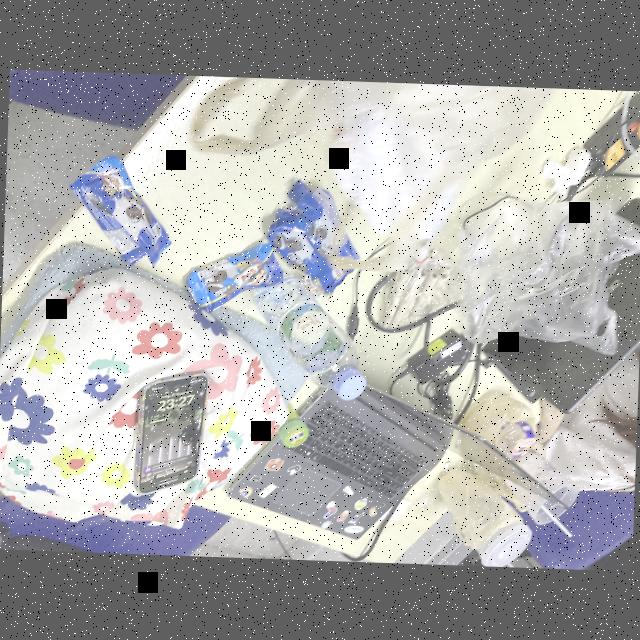plastic_bag: (173, 75, 561, 280), (452, 194, 640, 350), (325, 103, 463, 250), (432, 464, 524, 550), (460, 396, 546, 466)
plastic_bottle: (243, 274, 369, 401)
plastic_bottle_cap: (328, 367, 369, 403)
plastic_box: (499, 418, 538, 458)
plastic_cup: (500, 456, 580, 534)
plastic_cup_lid: (474, 524, 536, 567)
scrap_paper: (536, 142, 590, 203), (380, 497, 410, 524)
scrap_plastic: (402, 480, 436, 521)
snack_bag: (70, 154, 174, 268), (266, 183, 366, 294), (182, 238, 282, 312)
straw: (538, 500, 574, 540)
